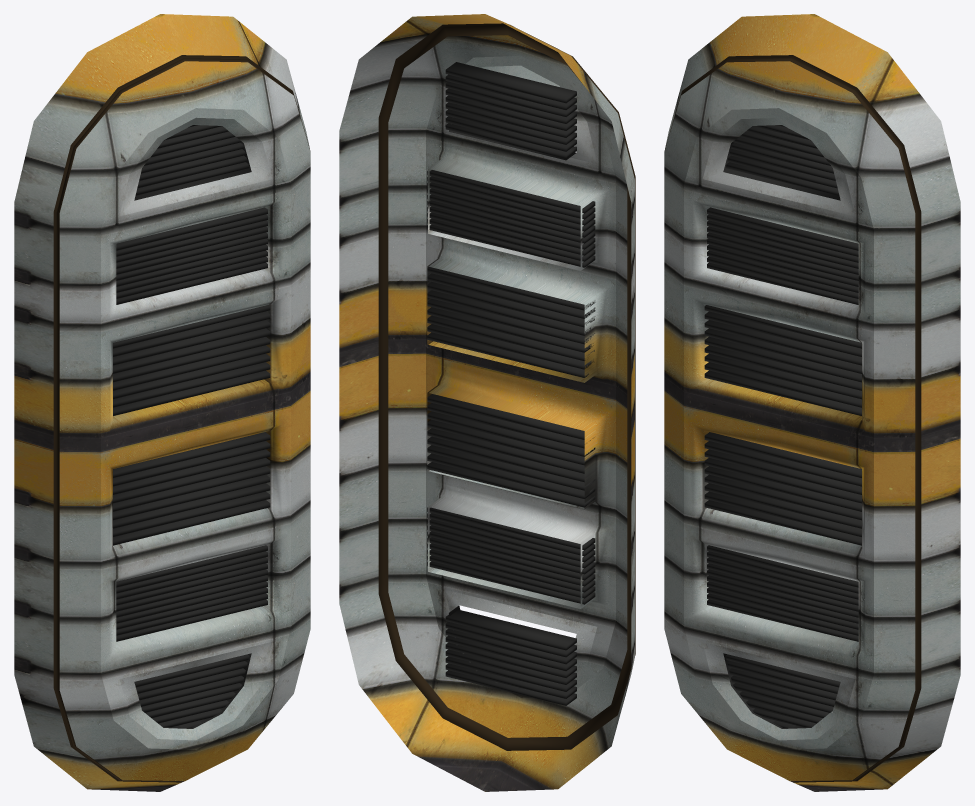
The model's file is vent_1.fbx.
The picture shows the model from 3 angles, left to right: view 1: azimuth 30°, elevation 25°; view 2: azimuth 150°, elevation 25°; view 3: azimuth 330°, elevation 25°; orthographic projection.
Parts seen in each view (by area): view 1: polySurface125, polySurface121, polySurface120, polySurface124, polySurface154, polySurface122, polySurface156, polySurface160, polySurface163, polySurface159, polySurface164, polySurface126 (+46 smaller); view 2: polySurface121, polySurface120, polySurface125, polySurface124, polySurface154, polySurface153, polySurface175, polySurface156, polySurface133, polySurface163, polySurface164, polySurface132 (+50 smaller); view 3: polySurface125, polySurface121, polySurface120, polySurface124, polySurface154, polySurface122, polySurface156, polySurface160, polySurface163, polySurface159, polySurface164, polySurface126 (+46 smaller).
Part boxes in pixels (x1,y1,x2,y2): polySurface125: [59, 61, 310, 781]; polySurface121: [101, 108, 290, 749]; polySurface120: [14, 14, 309, 791]; polySurface124: [53, 55, 309, 782]; polySurface154: [119, 642, 272, 740]; polySurface122: [119, 117, 272, 216]; polySurface156: [113, 432, 270, 477]; polySurface160: [113, 466, 270, 511]; polySurface163: [113, 491, 270, 536]; polySurface159: [113, 458, 270, 503]; polySurface164: [113, 500, 270, 545]; polySurface126: [113, 370, 270, 415]; polySurface121: [426, 56, 615, 697]; polySurface120: [339, 14, 634, 791]; polySurface125: [388, 35, 627, 737]; polySurface124: [378, 23, 635, 750]; polySurface154: [444, 589, 597, 672]; polySurface153: [445, 62, 576, 103]; polySurface175: [445, 609, 576, 650]; polySurface156: [427, 394, 584, 439]; polySurface133: [427, 273, 595, 318]; polySurface163: [427, 453, 595, 498]; polySurface164: [427, 462, 595, 507]; polySurface132: [427, 281, 595, 327]; polySurface125: [664, 61, 915, 781]; polySurface121: [684, 108, 873, 749]; polySurface120: [665, 14, 960, 791]; polySurface124: [665, 55, 921, 782]; polySurface154: [702, 642, 855, 740]; polySurface122: [702, 117, 855, 216]; polySurface156: [704, 432, 861, 477]; polySurface160: [704, 466, 861, 511]; polySurface163: [704, 491, 861, 536]; polySurface159: [704, 458, 861, 503]; polySurface164: [704, 500, 861, 545]; polySurface126: [704, 370, 861, 415].
Size of the model in its own units: 1.33 by 3.38 by 0.2813.
